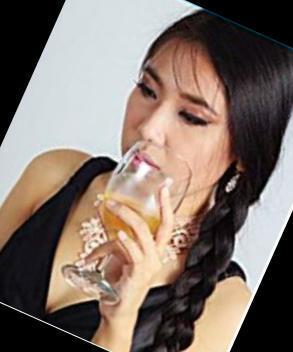Sober: (131, 57, 232, 181)
